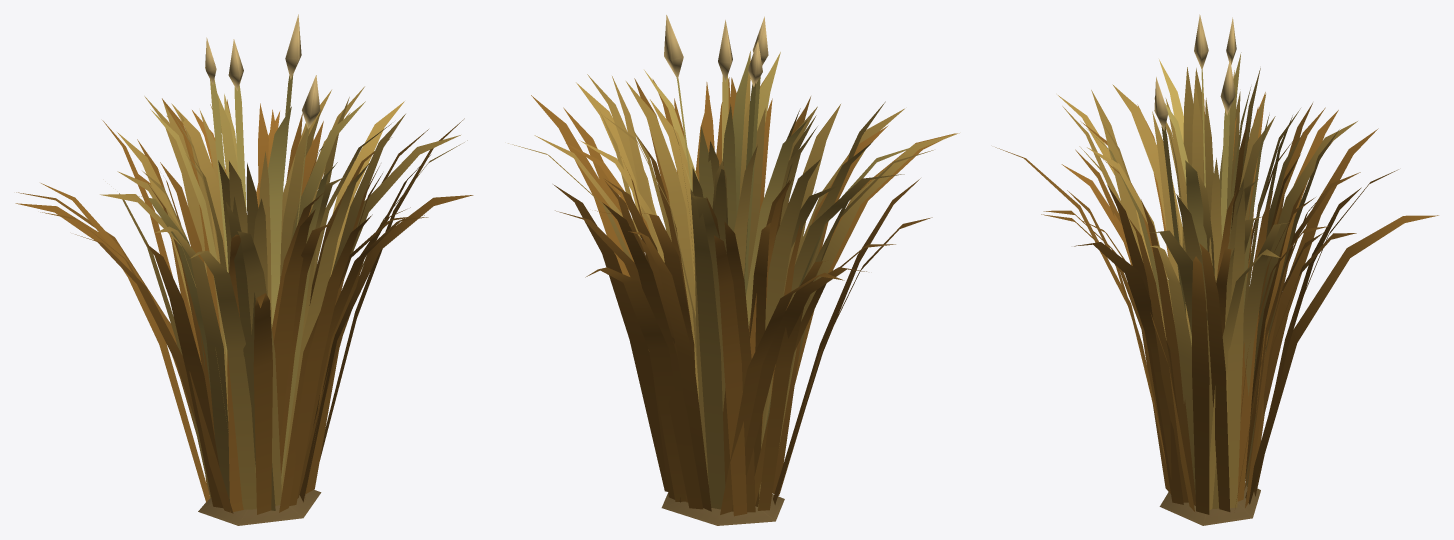
The model's file is tall_grass_1_dry.glb.
3 renders of one model, left to right at view 1: azimuth 30°, elevation 25°; view 2: azimuth 150°, elevation 25°; view 3: azimuth 270°, elevation 25°, orthographic. The views are drawn at different scales.
Visible parts, largest first — view 1: tall_grass_1_dry; view 2: tall_grass_1_dry; view 3: tall_grass_1_dry.
Boxes of the visible parts, x1,y1,x2,y2 form: tall_grass_1_dry: [15, 14, 473, 525]; tall_grass_1_dry: [508, 15, 959, 525]; tall_grass_1_dry: [995, 14, 1438, 525].
Size of the model in its own units: 1 by 1.15 by 1.
Materials: 2 (2 with a texture image).
